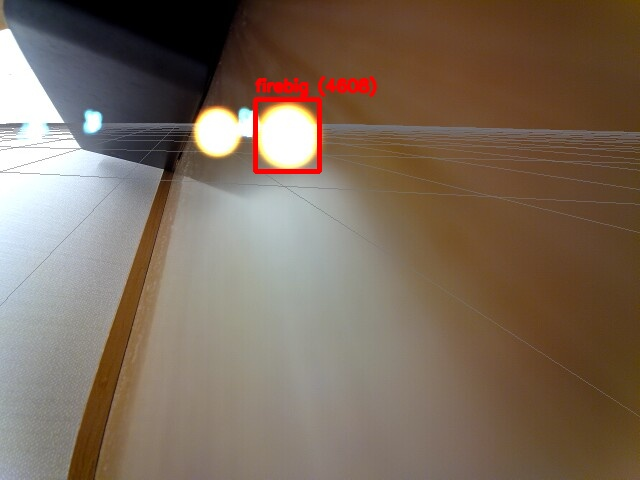firebig: (255, 99, 319, 171)
